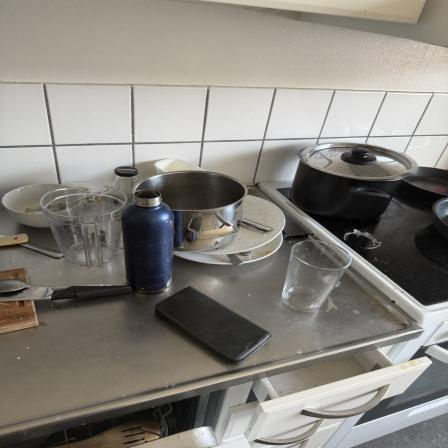blue_bottle: (118, 188, 176, 292)
phone: (150, 286, 270, 362)
